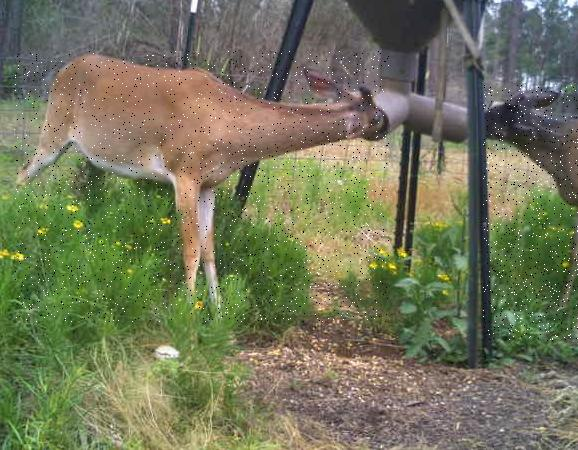Deer: (14, 52, 389, 323), (483, 85, 578, 341)
